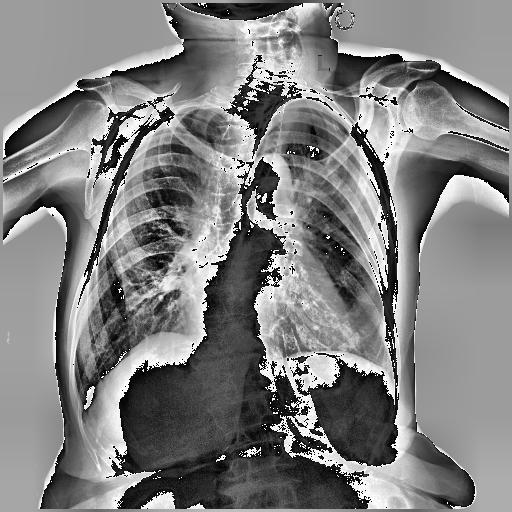0- Aortic enlargement: (252, 153, 294, 210), (250, 152, 292, 200)
3- Cardiomegaly: (186, 277, 360, 359)
9- Other lesion: (192, 87, 284, 350), (205, 131, 270, 381), (198, 118, 255, 376)
